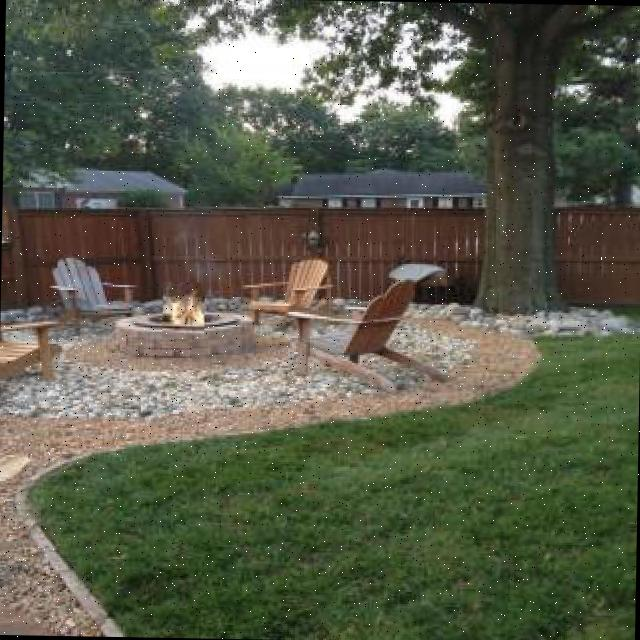fire: (162, 281, 204, 339)
